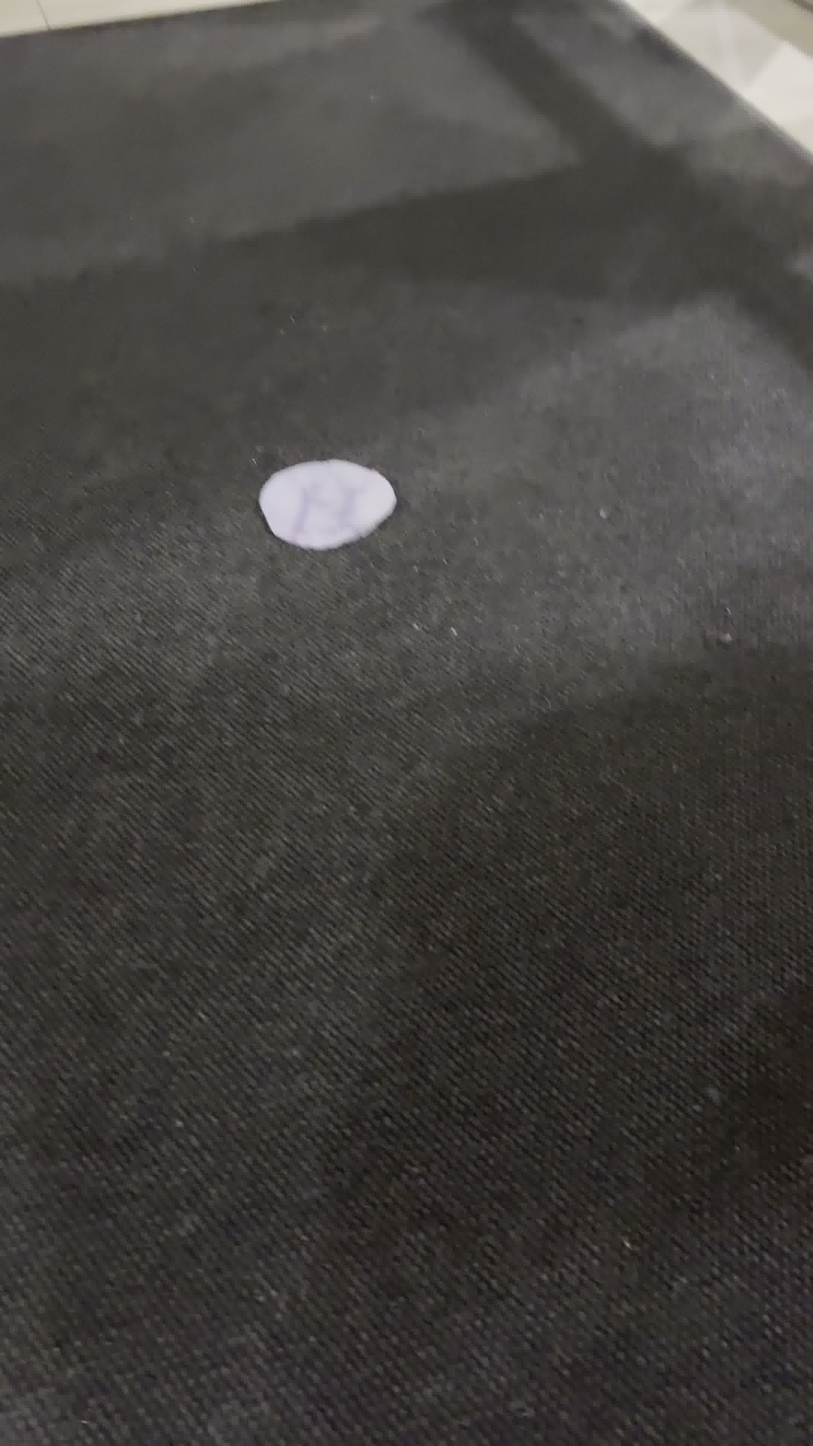Target: (258, 459, 396, 551)
